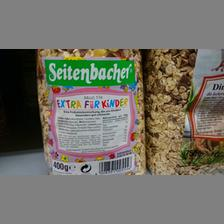Cerealien: (36, 48, 148, 176), (146, 48, 222, 176)
